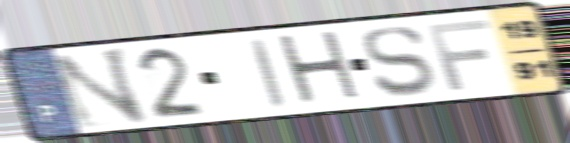2: (133, 44, 210, 123)
F: (423, 17, 494, 93)
H: (273, 27, 368, 109)
I: (246, 35, 290, 110)
N: (46, 44, 151, 132)
S: (358, 23, 438, 100)
